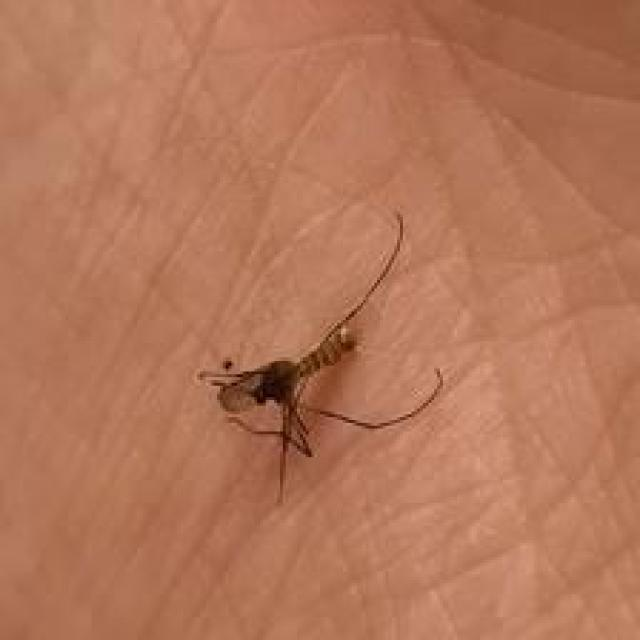Culex: (196, 208, 444, 506)
